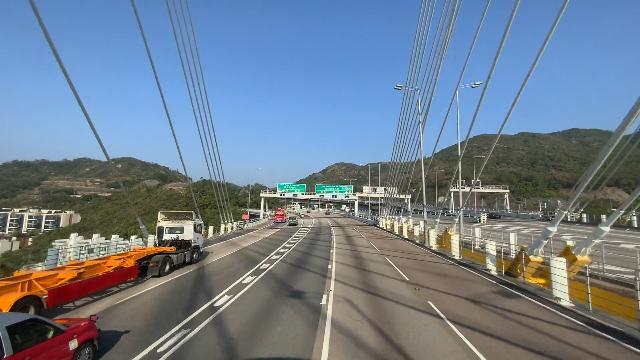bus: (274, 206, 288, 222)
car: (325, 211, 331, 216), (307, 210, 311, 213)
truck: (0, 207, 207, 318), (310, 204, 321, 211)
van: (288, 214, 299, 227)
